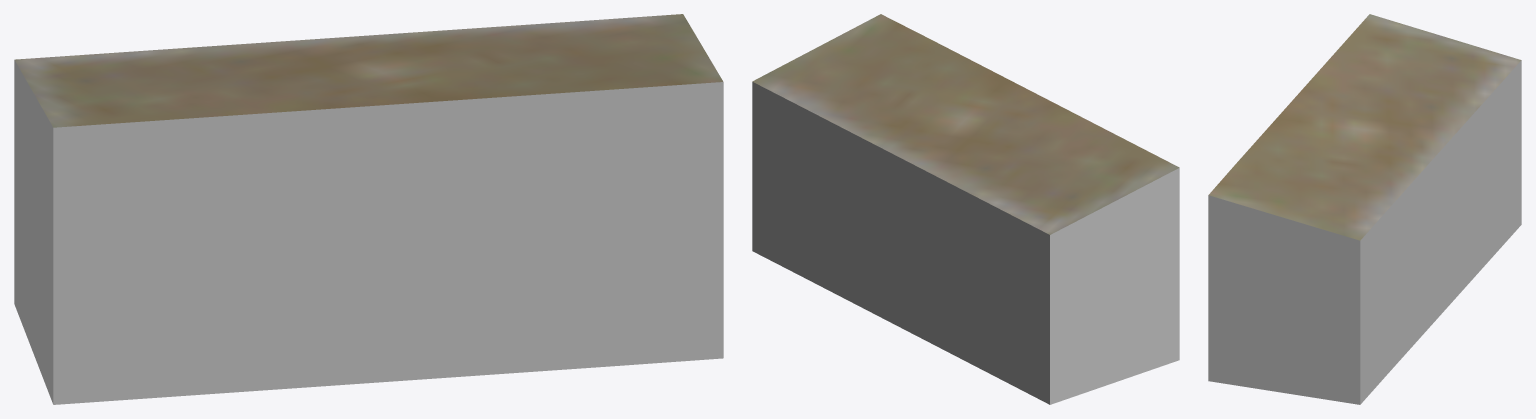
Rendered from DEBW_0010007TxfV.gltf.
3 renders of one model, left to right at view 1: azimuth 30°, elevation 25°; view 2: azimuth 150°, elevation 25°; view 3: azimuth 270°, elevation 25°, orthographic. The views are drawn at different scales.
Parts seen in each view (by area): view 1: Z_UP; view 2: Z_UP; view 3: Z_UP.
Boxes of the visible parts, x1,y1,x2,y2 form: Z_UP: (14, 14, 723, 404); Z_UP: (752, 14, 1179, 404); Z_UP: (1208, 14, 1521, 404).
Bounding box in the file's own units: 8.76 × 3.73 × 5.67.
2 materials, 1 textured.
